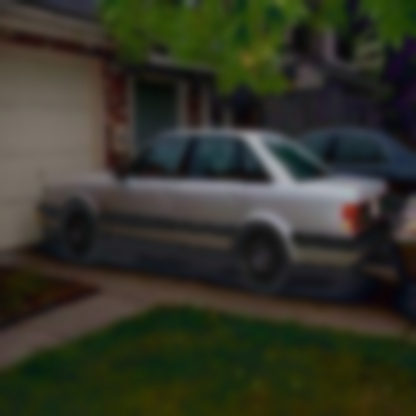Vehicle: (31, 128, 404, 302)
